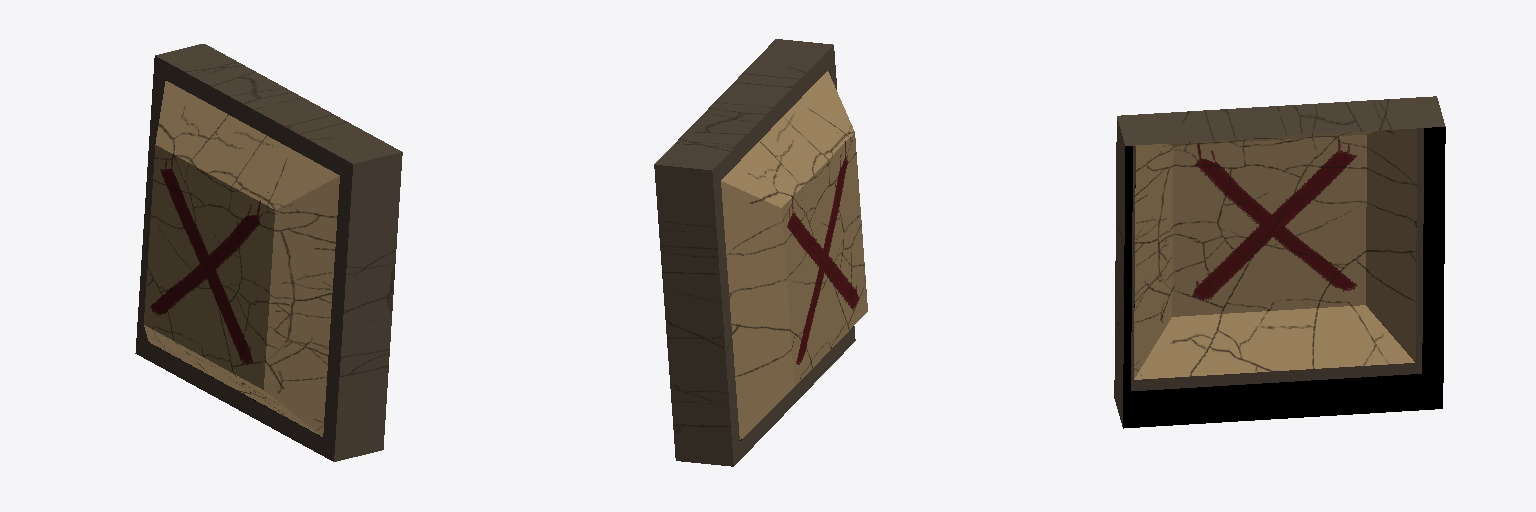
3 renders of one model, left to right at view 1: azimuth 30°, elevation 25°; view 2: azimuth 150°, elevation 25°; view 3: azimuth 270°, elevation 25°, orthographic.
Parts seen in each view (by area): view 1: Button_Plane.019, ButtonFrame.001_Plane.018; view 2: Button_Plane.019, ButtonFrame.001_Plane.018; view 3: Button_Plane.019, ButtonFrame.001_Plane.018.
Part boxes in pixels (x1,y1,x2,y2): Button_Plane.019: (144,81,339,436); ButtonFrame.001_Plane.018: (135,44,402,461); Button_Plane.019: (721,71,867,439); ButtonFrame.001_Plane.018: (654,39,855,466); Button_Plane.019: (1134,128,1416,379); ButtonFrame.001_Plane.018: (1114,96,1445,428).
Size of the model in its own units: 0.8842 by 1.81 by 1.83.
Materials: 1 (1 with a texture image).